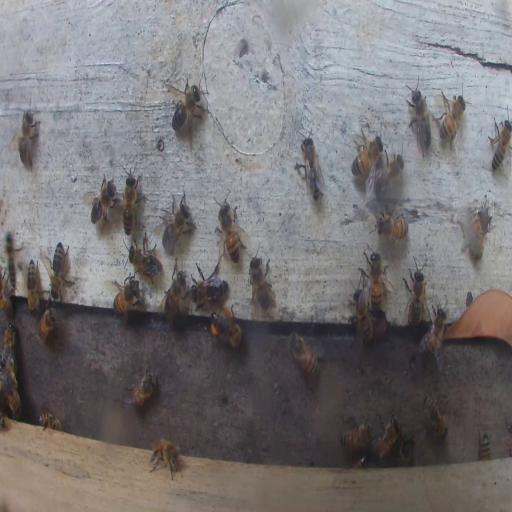bee: (170, 77, 206, 141), (406, 77, 433, 157), (159, 190, 194, 250), (86, 173, 119, 228), (298, 134, 324, 202), (16, 99, 40, 170), (350, 132, 385, 178), (403, 257, 426, 327), (208, 307, 245, 350), (123, 362, 158, 406), (350, 287, 376, 346), (418, 306, 446, 360), (47, 240, 71, 303), (440, 90, 466, 148), (218, 196, 240, 264), (192, 264, 226, 307), (248, 254, 274, 310), (128, 237, 162, 279), (149, 437, 183, 479), (290, 334, 322, 378), (372, 151, 404, 194), (488, 116, 512, 171), (121, 168, 141, 234), (370, 418, 400, 461), (163, 266, 187, 319), (112, 275, 141, 318), (468, 204, 490, 260), (423, 391, 448, 440), (339, 422, 373, 455), (2, 358, 20, 418), (376, 210, 408, 240), (369, 252, 383, 311), (1, 260, 15, 316), (26, 258, 39, 315), (1, 323, 16, 369), (38, 305, 56, 341), (397, 436, 415, 465), (38, 411, 63, 430), (479, 430, 492, 461)
